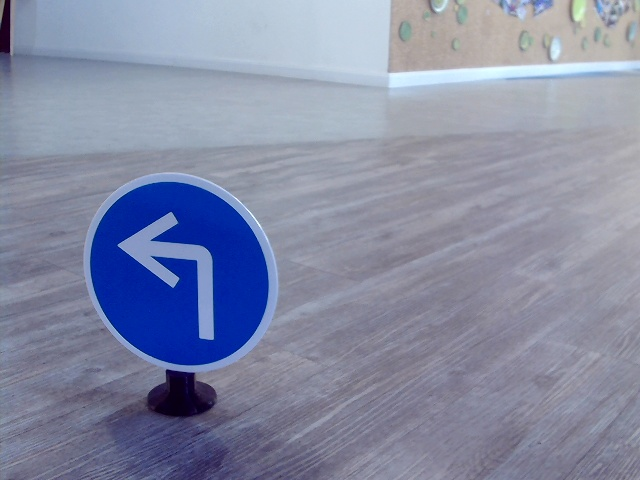turn_left: (120, 206, 225, 343)
